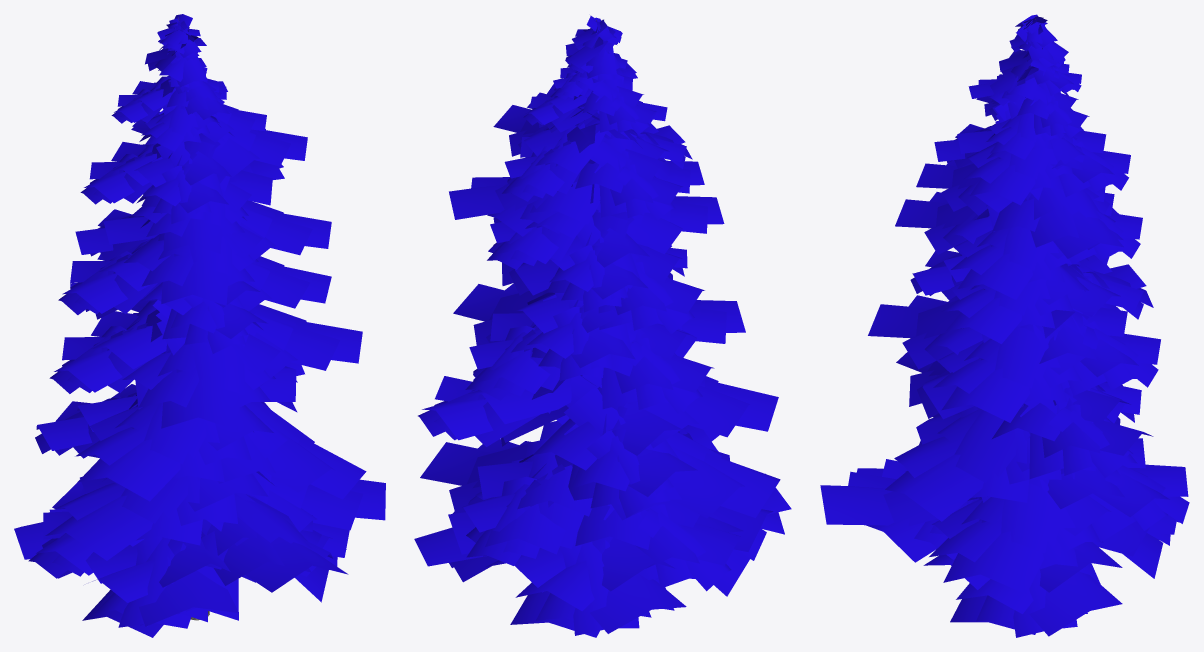
The model's file is Spruce_1.fbx.
3 views of the same model, side by side, from view 1: azimuth 30°, elevation 25°; view 2: azimuth 150°, elevation 25°; view 3: azimuth 270°, elevation 25° (orthographic). The views are drawn at different scales.
Visible parts, largest first — view 1: Spruce_1_LOD0; view 2: Spruce_1_LOD0; view 3: Spruce_1_LOD0.
Part boxes in pixels (box(x1,y1,x2,y2)): Spruce_1_LOD0: box(14, 14, 385, 637); Spruce_1_LOD0: box(414, 15, 791, 637); Spruce_1_LOD0: box(820, 14, 1189, 637).
Size of what is drawn, in the model's own units: 677 by 1176 by 678.
